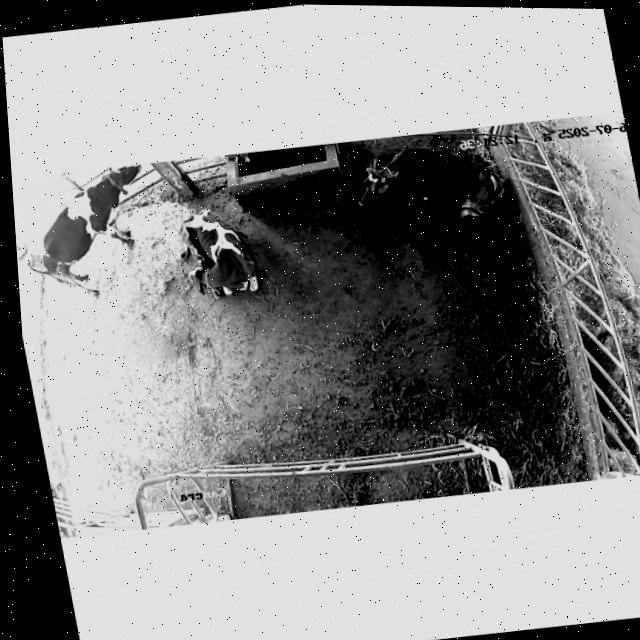stand: (11, 161, 169, 310)
